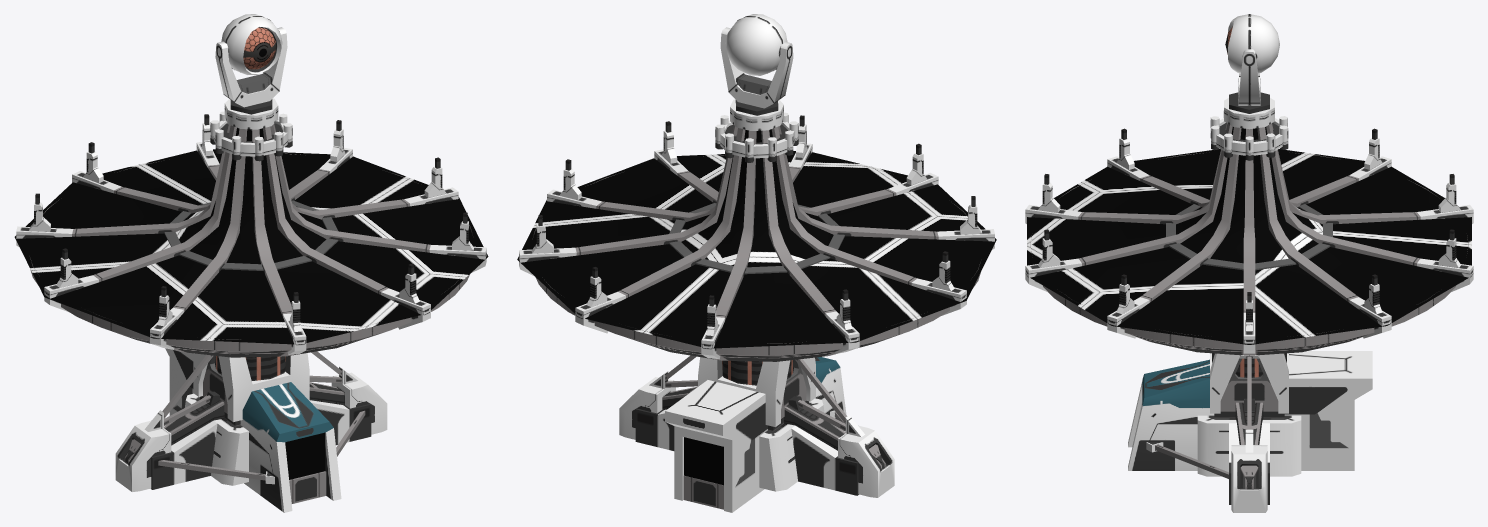
Rendered from ray-receiver.glb.
3 renders of one model, left to right at view 1: azimuth 30°, elevation 25°; view 2: azimuth 150°, elevation 25°; view 3: azimuth 270°, elevation 25°, orthographic. The views are drawn at different scales.
Visible parts, largest first — view 1: ray-receiver; view 2: ray-receiver; view 3: ray-receiver.
Boxes of the visible parts, x1,y1,x2,y2 form: ray-receiver: (14,14,488,512); ray-receiver: (517,14,996,512); ray-receiver: (1025,14,1473,512).
Bounding box in the file's own units: 10.13 × 10.38 × 9.58.
Materials: 4 (3 with a texture image).
